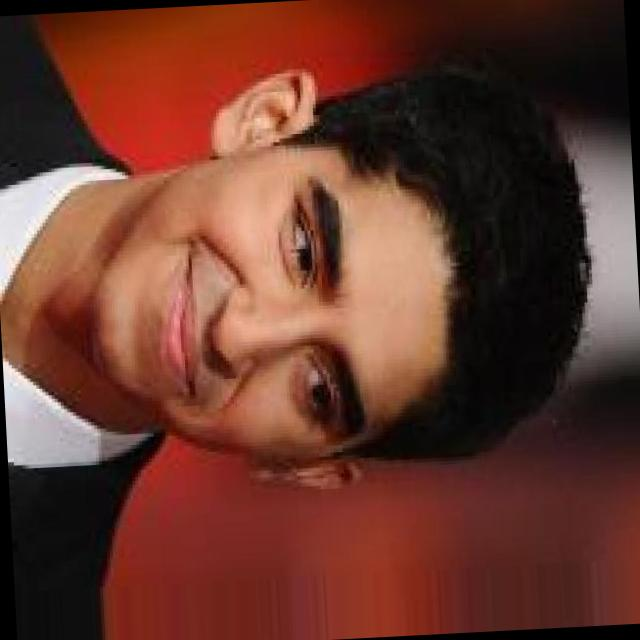bareface: (79, 68, 479, 546)
